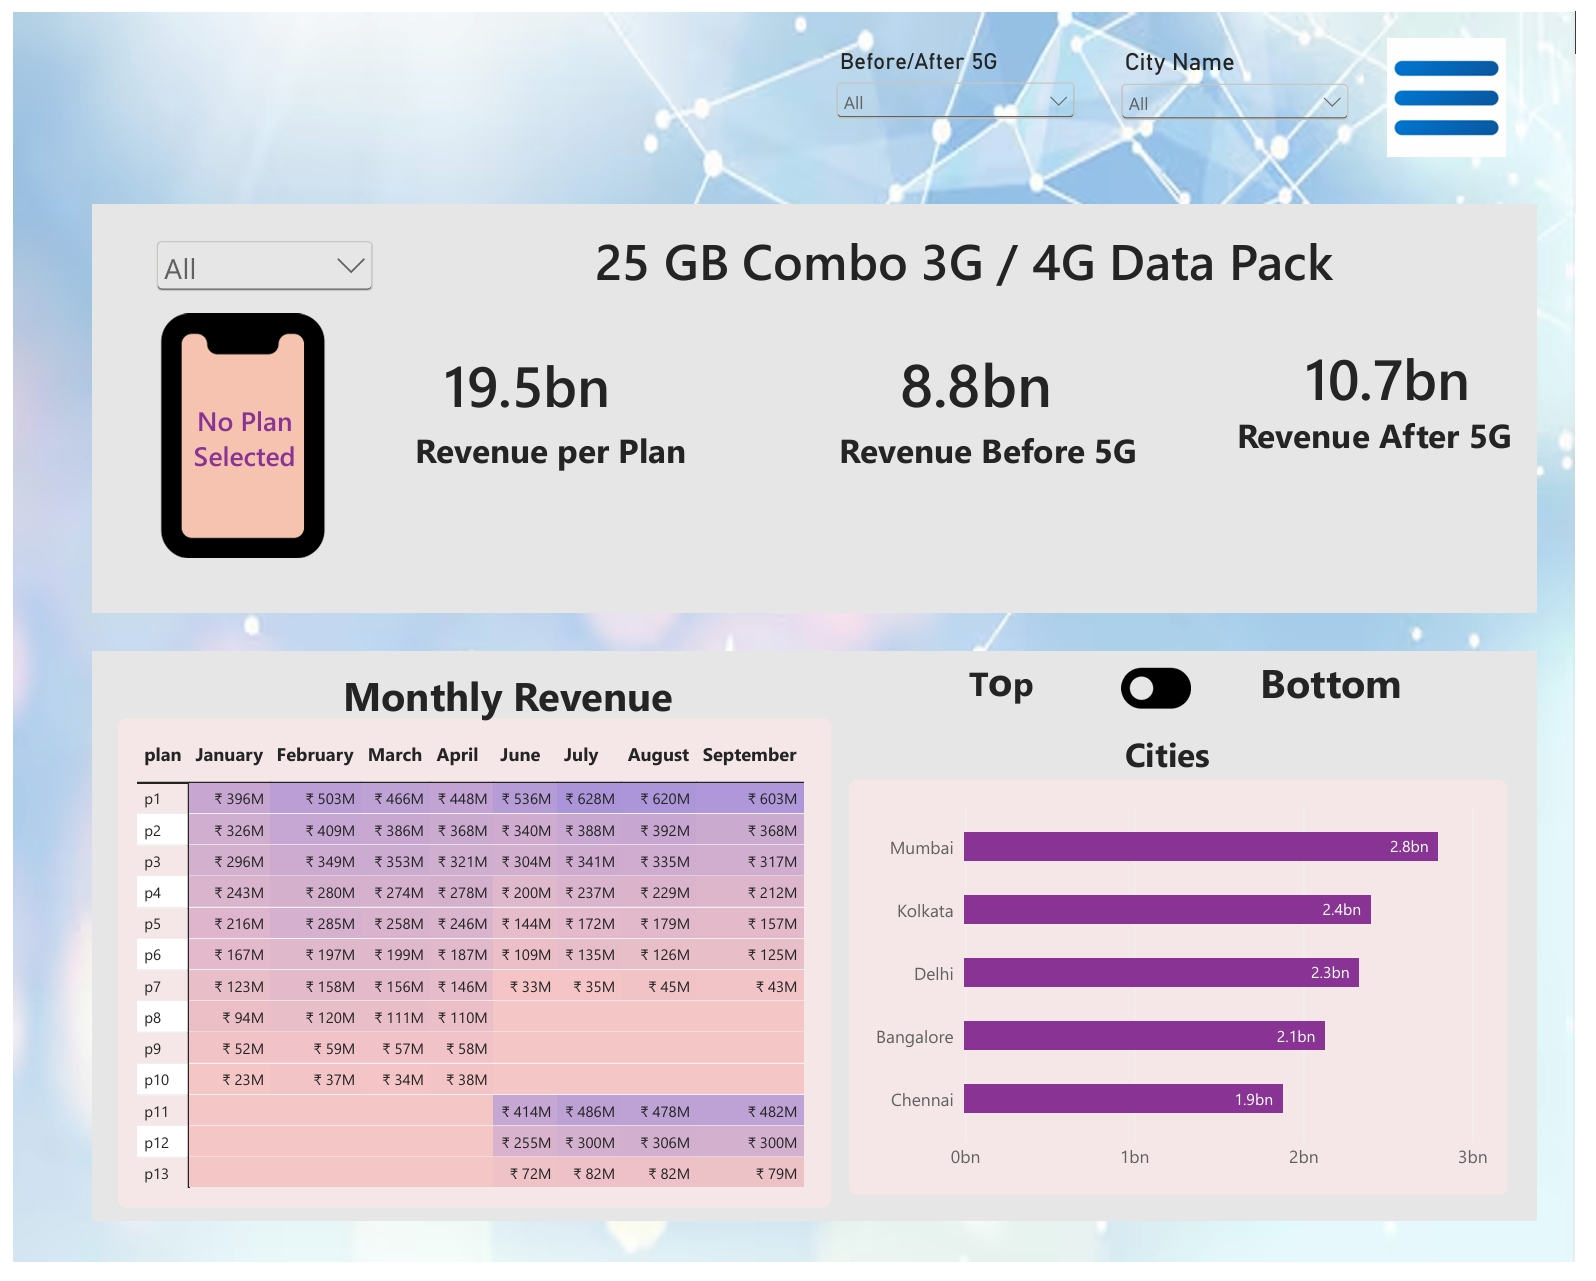

What the dashboard file says about the page in this screenshot:
{"tool":"powerbi","page":{"name":"Plan","canvas":[1250,1000],"ordinal":2},"visuals":[{"type":"shape","box":[64,154,1156,327],"z":0},{"type":"image","title":"Top Image","box":[877.9,513.2,72.8,55.6],"z":0,"group":"g1"},{"type":"slicer","fields":{"Values":["dim_plan.plan"]},"box":[110,176.2,182.5,76.2],"z":1000},{"type":"clusteredBarChart","fields":{"Category":["dim_cities.city_name"],"Y":["Mesaure_Table.Total_plan_revenes"]},"box":[668,613,529,335],"z":1000,"group":"g1"},{"type":"cardVisual","fields":{"Data":["Mesaure_Table.Sel_plan_revenue"]},"box":[286.6,242.5,247.5,106.2],"z":2000},{"type":"textbox","title":"Bottom Text","box":[927.3,514.5,255.6,59.3],"z":2000,"group":"g1"},{"type":"cardVisual","fields":{"Data":["Mesaure_Table.Sl_plan_revenue_before_5g"]},"box":[650.4,251.3,238.8,87.5],"z":3000},{"type":"textbox","title":"Top Text","box":[702.6,512,176.5,53.1],"z":3000,"group":"g1"},{"type":"cardVisual","fields":{"Data":["Mesaure_Table.Sl_plan_revenue_after_5g"]},"box":[994.1,241.3,211.2,97.5],"z":4000},{"type":"card","fields":{"Values":["Min(dim_plan.plan_description)"]},"box":[345,154,832,90],"z":5000},{"type":"textbox","box":[293,332,275,45],"z":6000},{"type":"textbox","box":[636,332,289,45],"z":7000},{"type":"textbox","box":[959,320,261,48],"z":8000},{"type":"shape","box":[64,512,1156,456],"z":9000},{"type":"pivotTable","fields":{"Columns":["dim_date.date.Variation.Date Hierarchy.Month"],"Rows":["dim_plan.plan"],"Values":["Mesaure_Table.Total_plan_revenes"]},"box":[83,564,573,394],"z":10000},{"type":"textbox","box":[83,524,626,51],"z":11000},{"type":"textbox","title":"Cities Text","box":[732,575,384,38],"z":13000},{"type":"group","id":"g1","title":"Top Switch","box":[668,512,529,436],"z":14000},{"type":"cardVisual","fields":{"Data":["Mesaure_Table.Paln_selected"]},"box":[125,244,118.5,190.1],"z":15000},{"type":"slicer","fields":{"Values":["dim_date.before/after_5g"]},"box":[653.5,27.8,201.2,58.8],"z":16000},{"type":"slicer","fields":{"Values":["dim_cities.city_name"]},"box":[882.2,27.8,191.2,58.8],"z":17000},{"type":"image","box":[86,216,196,245],"z":18000},{"type":"image","title":"Main 3 Image","box":[1100,16,94.6,105.4],"z":19000}]}

Visuals, with their boxes in screenshot pixels (x1, y1, x2, y2), scaled from the page's 1250x1000 canvas onto the 1596x1281 screenshot:
shape: box=[82, 197, 1558, 616]
"Top Image" image: box=[1121, 657, 1214, 729]
slicer - dim_plan.plan: box=[140, 226, 373, 323]
clusteredBarChart - dim_cities.city_name x Mesaure_Table.Total_plan_revenes: box=[853, 785, 1528, 1214]
cardVisual - Mesaure_Table.Sel_plan_revenue: box=[366, 311, 682, 447]
"Bottom Text" textbox: box=[1184, 659, 1510, 735]
cardVisual - Mesaure_Table.Sl_plan_revenue_before_5g: box=[830, 322, 1135, 434]
"Top Text" textbox: box=[897, 656, 1122, 724]
cardVisual - Mesaure_Table.Sl_plan_revenue_after_5g: box=[1269, 309, 1539, 434]
card - Min(dim_plan.plan_description): box=[440, 197, 1503, 313]
textbox: box=[374, 425, 725, 483]
textbox: box=[812, 425, 1181, 483]
textbox: box=[1224, 410, 1558, 471]
shape: box=[82, 656, 1558, 1240]
pivotTable - dim_date.date.Variation.Date Hierarchy.Month x dim_plan.plan: box=[106, 722, 838, 1227]
textbox: box=[106, 671, 905, 737]
"Cities Text" textbox: box=[935, 737, 1425, 785]
"Top Switch" group: box=[853, 656, 1528, 1214]
cardVisual - Mesaure_Table.Paln_selected: box=[160, 313, 311, 556]
slicer - dim_date.before/after_5g: box=[834, 36, 1091, 111]
slicer - dim_cities.city_name: box=[1126, 36, 1371, 111]
image: box=[110, 277, 360, 591]
"Main 3 Image" image: box=[1404, 20, 1525, 156]
